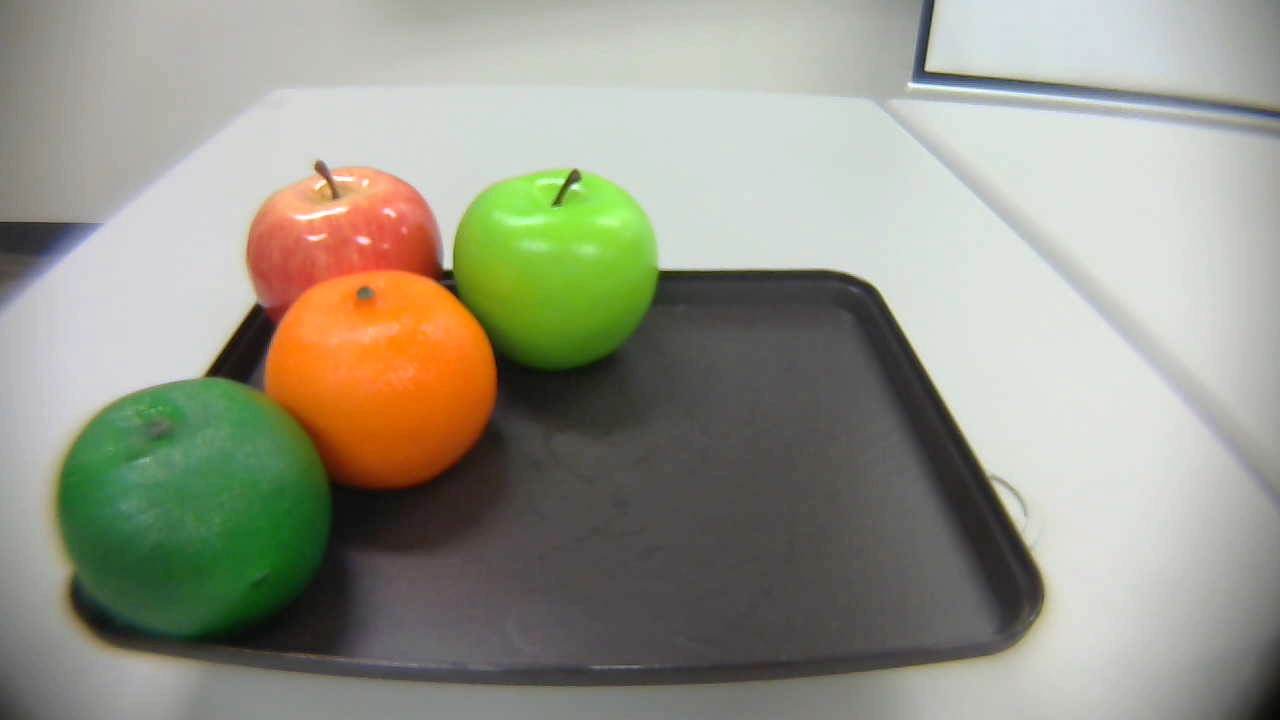green apple: (449, 168, 667, 375)
green orange: (48, 370, 346, 638)
orange: (267, 272, 497, 498)
red apple: (243, 159, 441, 329)
